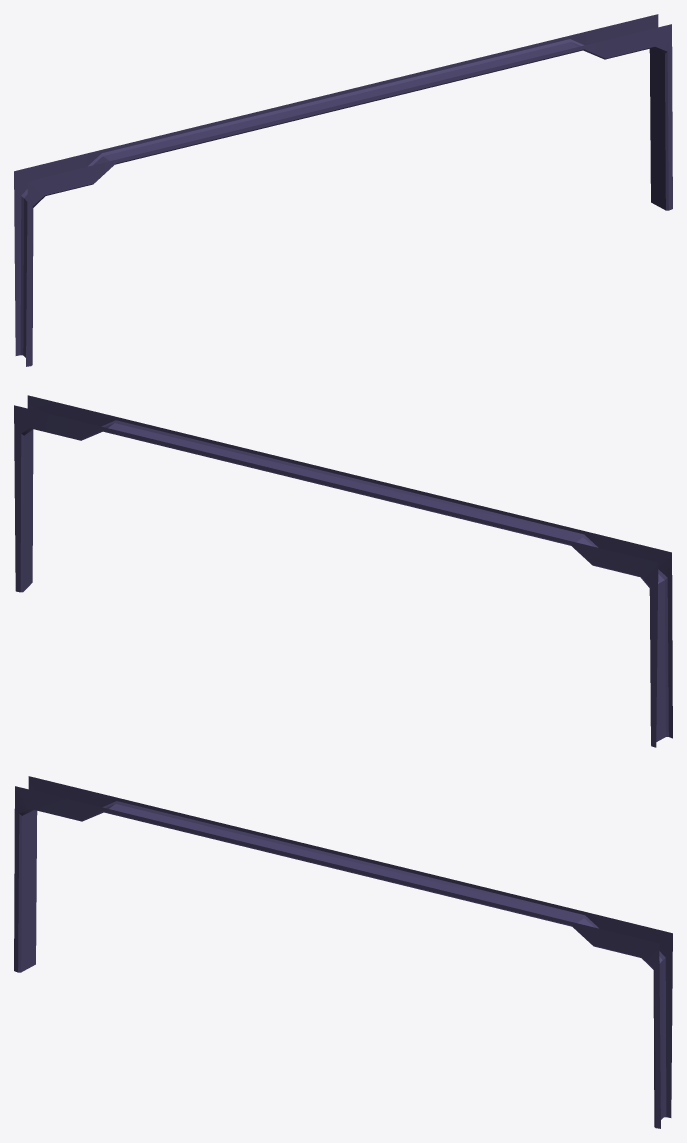
The model's file is Mh_MidFrame.fbx.
The picture shows the model from 3 angles, top to bottom: view 1: azimuth 30°, elevation 25°; view 2: azimuth 150°, elevation 25°; view 3: azimuth 330°, elevation 25°; orthographic projection.
Visible parts, largest first — view 1: Mh_MidFrame; view 2: Mh_MidFrame; view 3: Mh_MidFrame.
Boxes of the visible parts, <box> form: Mh_MidFrame: <box>14,14,672,366</box>; Mh_MidFrame: <box>14,395,672,747</box>; Mh_MidFrame: <box>14,776,672,1128</box>.
Size of the model in its own units: 2021 by 554 by 76.36.
